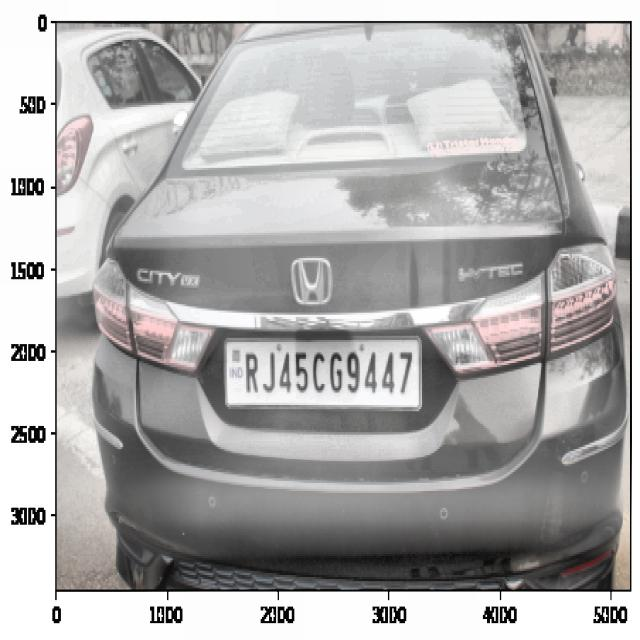license_plate: (235, 340, 417, 409)
